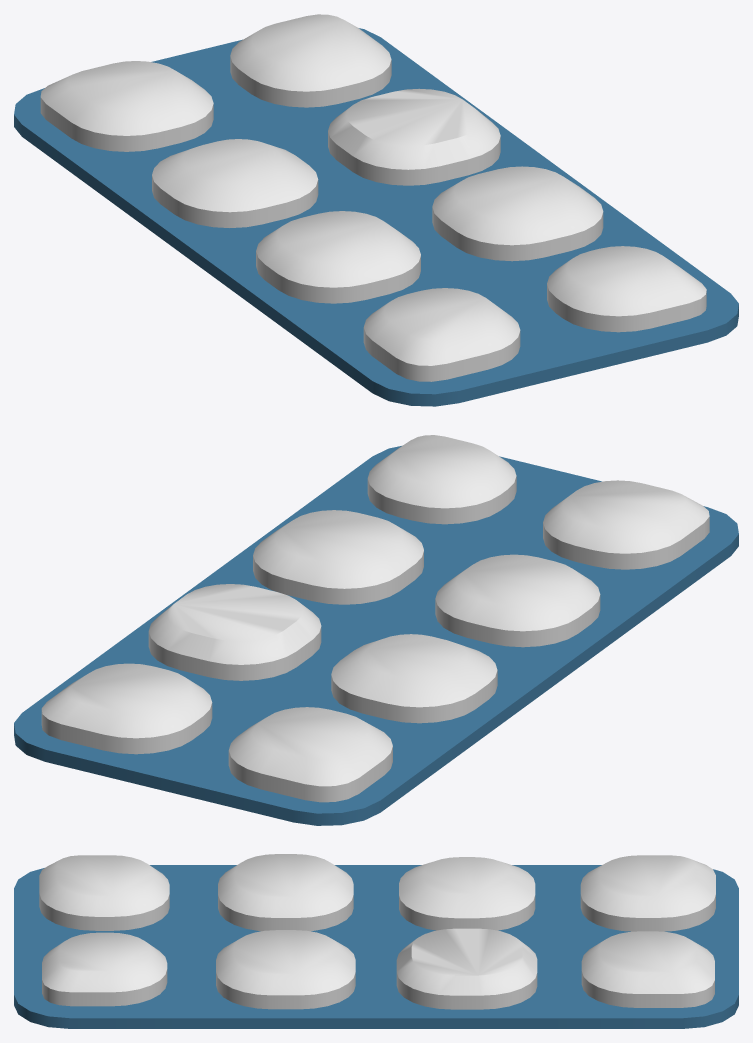
Rendered from pastilla.fbx.
3 renders of one model, top to bottom at view 1: azimuth 30°, elevation 25°; view 2: azimuth 150°, elevation 25°; view 3: azimuth 270°, elevation 25°, orthographic. The views are drawn at different scales.
Visible parts, largest first — view 1: Cube; view 2: Cube; view 3: Cube.
Boxes of the visible parts, bbox=[...] form: Cube: bbox=[14, 14, 738, 406]; Cube: bbox=[14, 435, 738, 825]; Cube: bbox=[14, 854, 738, 1028].
Size of the model in its own units: 400 by 46.95 by 800.
